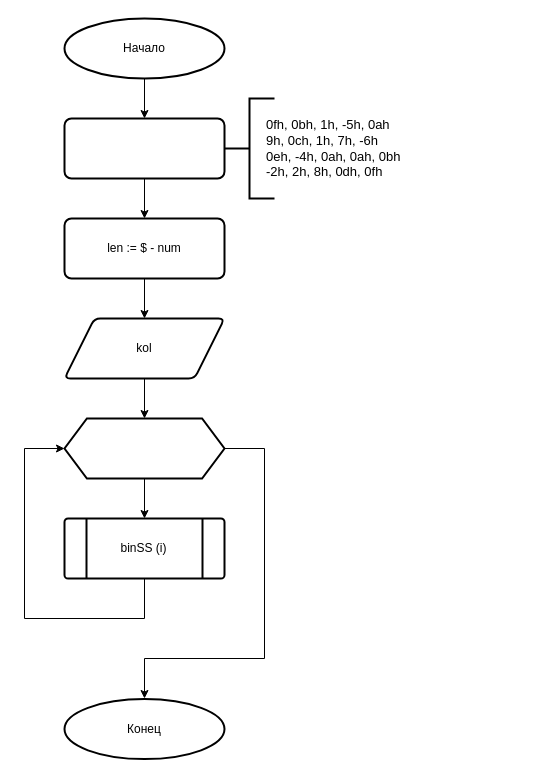
Some shapes in this 547 by 777 pixel diagram are drawn without their labels. Each missing label, with the centre of its shape:
i := len-1; i >= len-kol; -1: [144,448]
num[]: [144,148]
